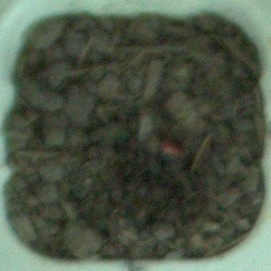pepper seed: (64, 58, 253, 218)
